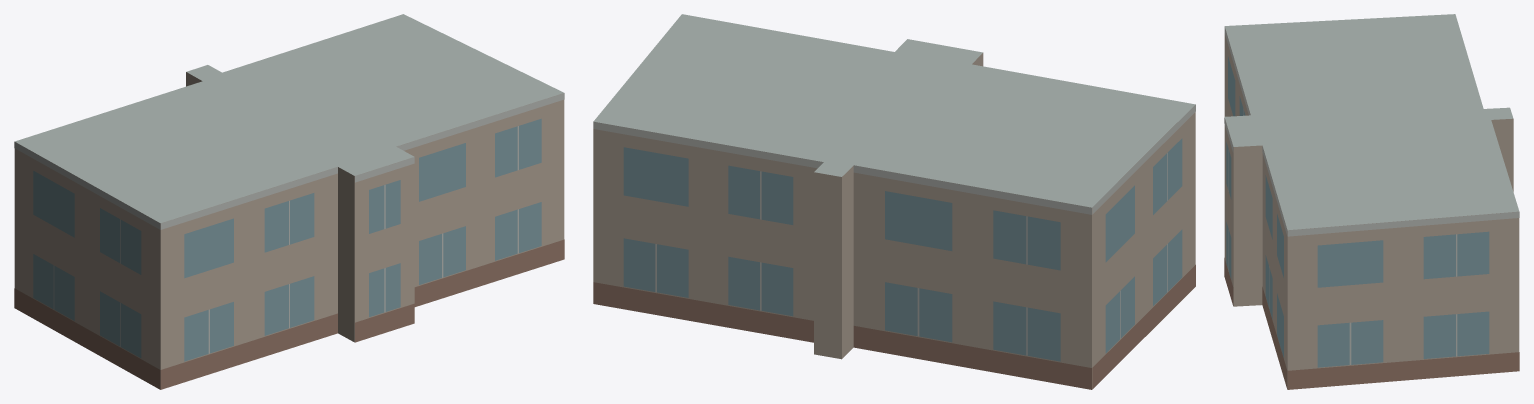
Rendered from survey-upis-32820106.glb.
3 renders of one model, left to right at view 1: azimuth 30°, elevation 25°; view 2: azimuth 150°, elevation 25°; view 3: azimuth 270°, elevation 25°, orthographic. The views are drawn at different scales.
Parts seen in each view (by area): view 1: survey-upis-32820106.tmp; view 2: survey-upis-32820106.tmp; view 3: survey-upis-32820106.tmp.
Part boxes in pixels (<box>): survey-upis-32820106.tmp: <box>14,14,564,389</box>; survey-upis-32820106.tmp: <box>593,14,1195,389</box>; survey-upis-32820106.tmp: <box>1224,14,1519,389</box>.
Size of the model in its own units: 17.73 by 6.1 by 10.23.
